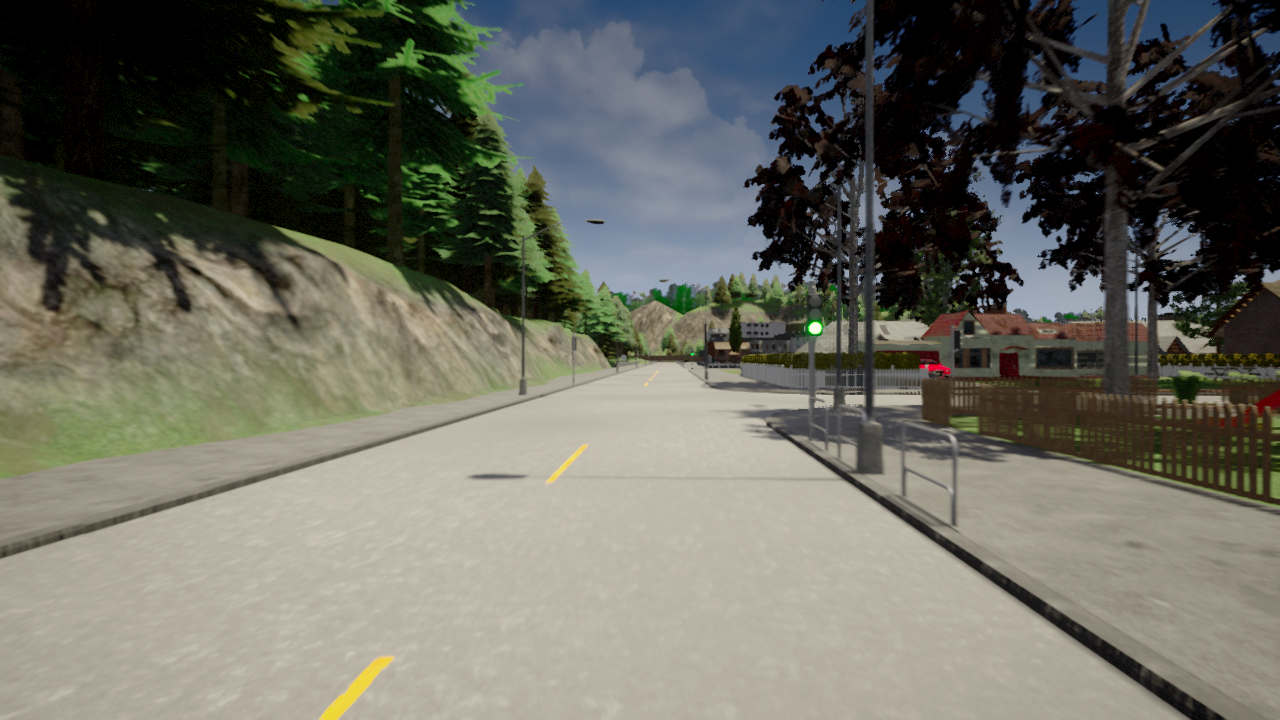green: (803, 291, 826, 335)
